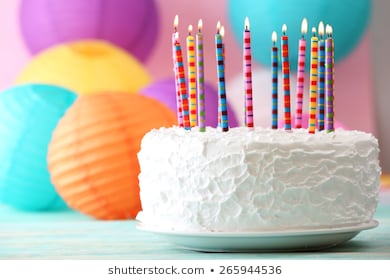Fire: (300, 15, 308, 37), (242, 15, 251, 31), (171, 12, 179, 27), (318, 19, 325, 36), (196, 17, 203, 30), (280, 22, 287, 35), (185, 23, 194, 33), (271, 29, 277, 44), (326, 21, 332, 36), (214, 19, 220, 29)
